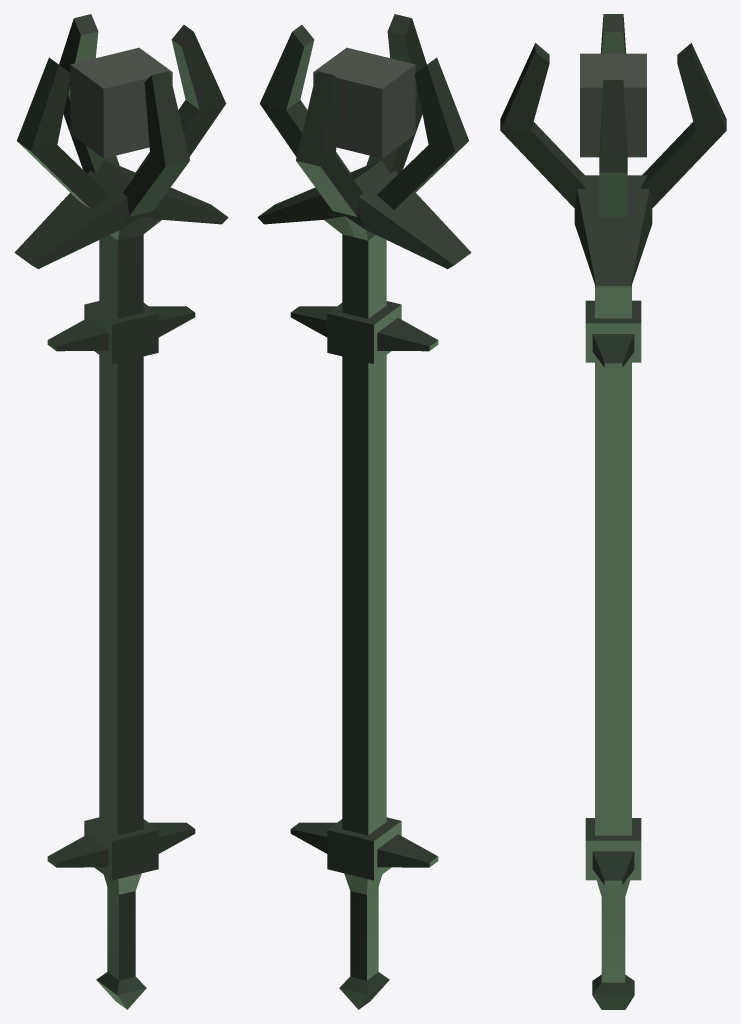
The model's file is SF_Wep_Undead_Staff_01.glb.
3 renders of one model, left to right at view 1: azimuth 30°, elevation 25°; view 2: azimuth 150°, elevation 25°; view 3: azimuth 270°, elevation 25°, orthographic.
Visible parts, largest first — view 1: SF_Wep_Undead_Staff_01; view 2: SF_Wep_Undead_Staff_01; view 3: SF_Wep_Undead_Staff_01.
Part boxes in pixels (box(x1,y1,x2,y2)): SF_Wep_Undead_Staff_01: box(14, 14, 228, 1009); SF_Wep_Undead_Staff_01: box(257, 14, 471, 1009); SF_Wep_Undead_Staff_01: box(500, 14, 726, 1009).
Bounding box in the file's own units: 0.00662 × 0.0309 × 0.00657.
Materials: 1 (1 with a texture image).
